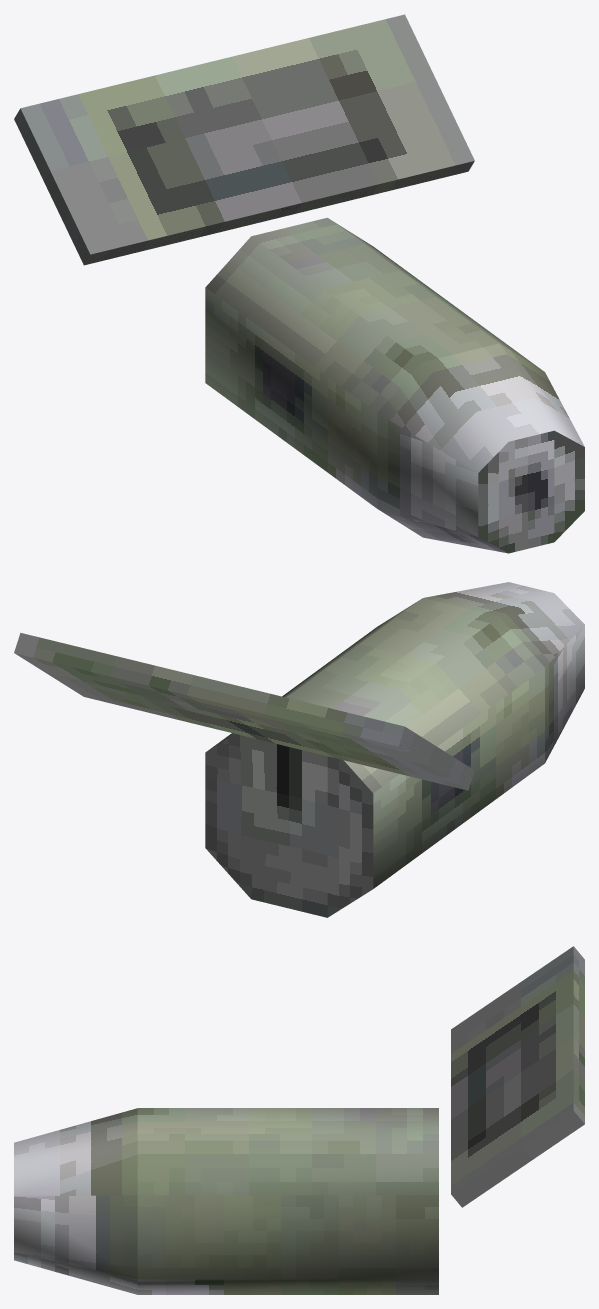
Rendered from eqp_tool_magseal_detector_l3.fbx.
3 renders of one model, top to bottom at view 1: azimuth 30°, elevation 25°; view 2: azimuth 150°, elevation 25°; view 3: azimuth 270°, elevation 25°, orthographic. The views are drawn at different scales.
Parts seen in each view (by area): view 1: mesh_node; view 2: mesh_node; view 3: mesh_node.
Part boxes in pixels (box(x1,y1,x2,y2)): mesh_node: box(14, 14, 584, 553); mesh_node: box(14, 582, 584, 917); mesh_node: box(14, 946, 584, 1294).
Size of the model in its own units: 0.5041 by 0.3572 by 0.7387.
